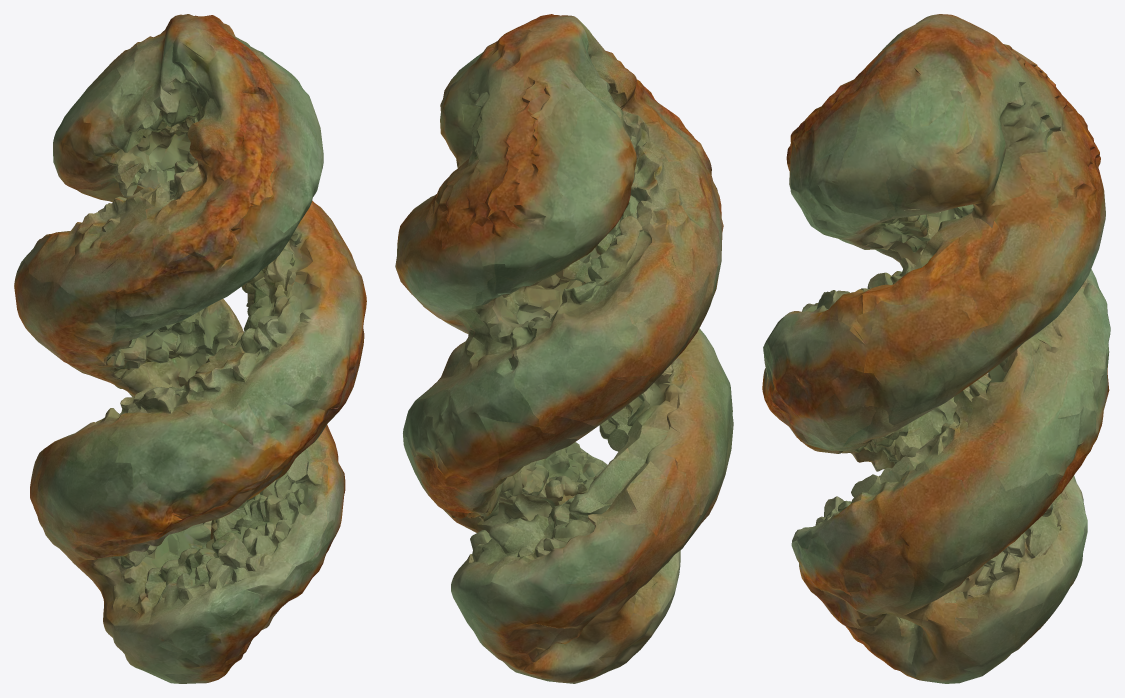
3 views of the same model, side by side, from view 1: azimuth 30°, elevation 25°; view 2: azimuth 150°, elevation 25°; view 3: azimuth 270°, elevation 25° (orthographic).
Visible parts, largest first — view 1: Mesh_0; view 2: Mesh_0; view 3: Mesh_0.
Part boxes in pixels (x1,y1,x2,y2): Mesh_0: [14, 14, 366, 683]; Mesh_0: [395, 14, 733, 683]; Mesh_0: [762, 14, 1110, 683].
Bounding box in the file's own units: 0.8992 × 1.9 × 0.9071.
1 material, 1 textured.
